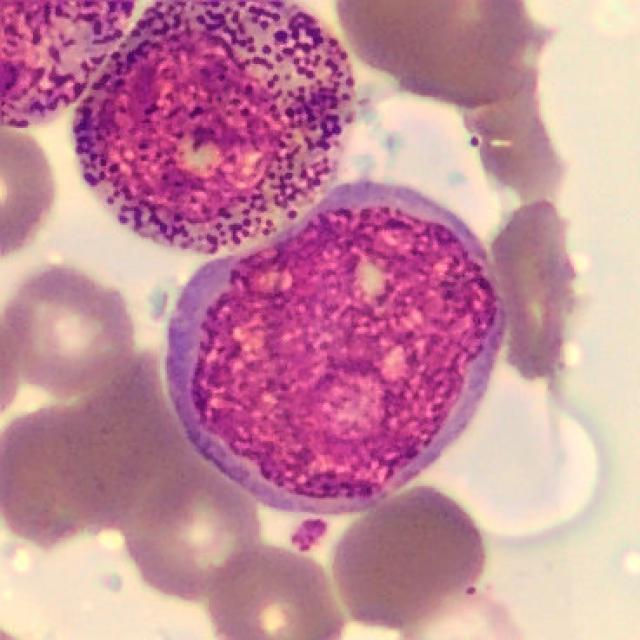Mieloblasto: (165, 182, 504, 521), (165, 182, 504, 519)
Promielocito: (73, 0, 357, 256)
